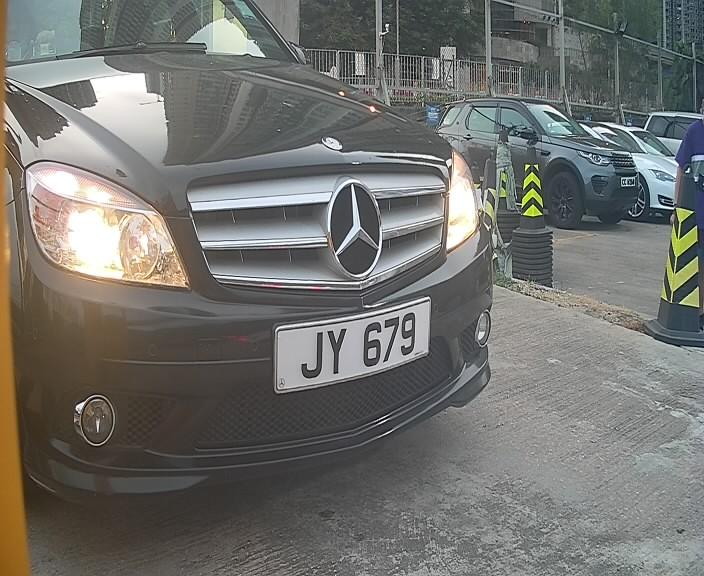License Plate: (277, 299, 437, 389)
